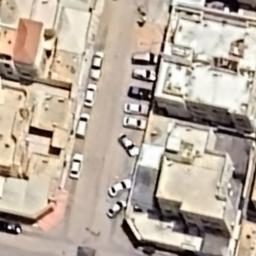sedan: (114, 132, 142, 158), (87, 50, 105, 82), (107, 176, 133, 198), (102, 198, 128, 220), (120, 112, 148, 132), (74, 111, 92, 141), (121, 102, 153, 117), (82, 82, 98, 109), (68, 152, 83, 180)
van: (130, 48, 162, 66), (126, 82, 156, 101), (128, 67, 162, 83)
